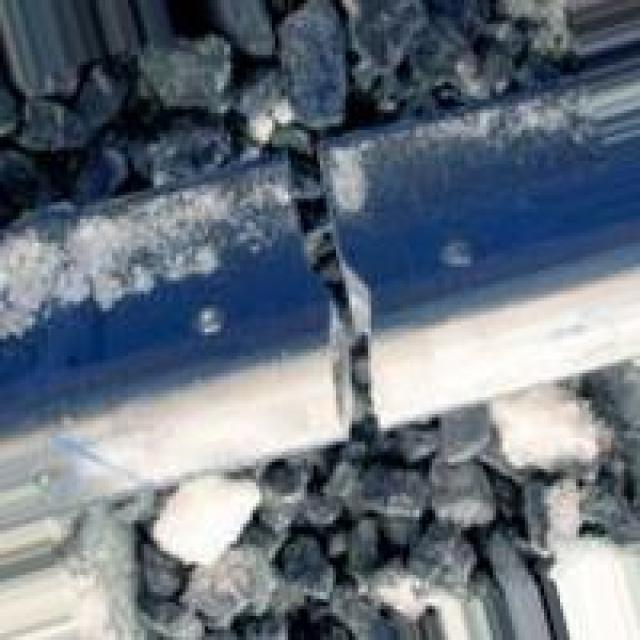crack: (237, 101, 422, 482)
